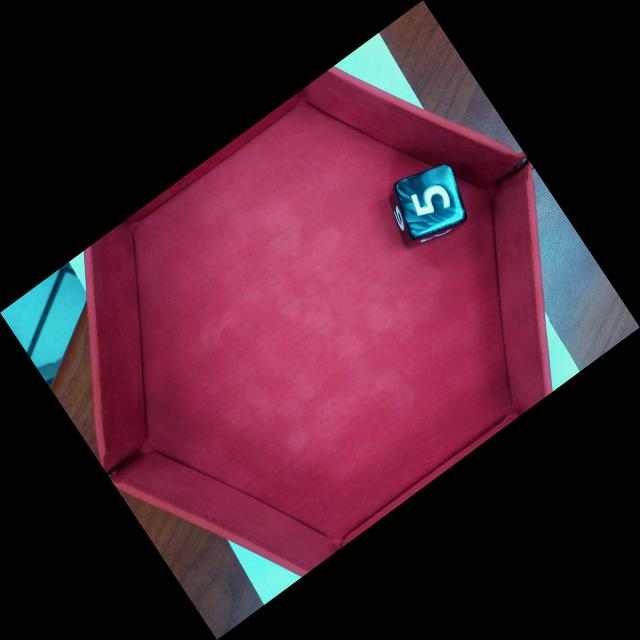dice: (394, 162, 470, 243)
